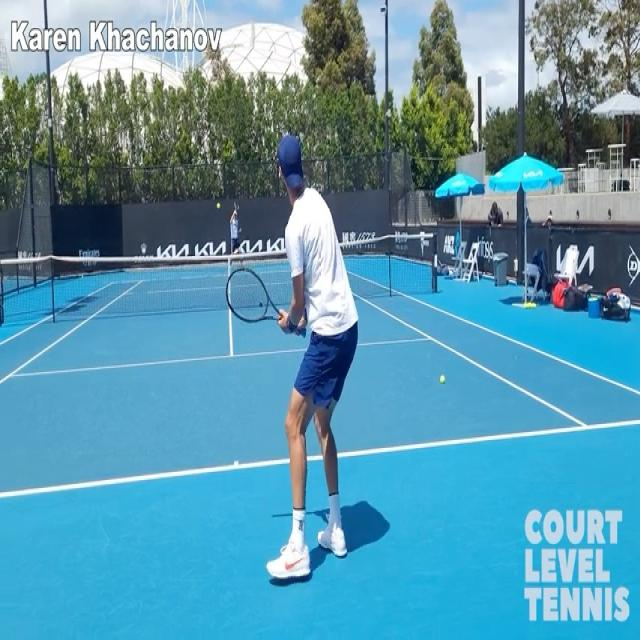backhand-ready: (232, 137, 360, 584)
